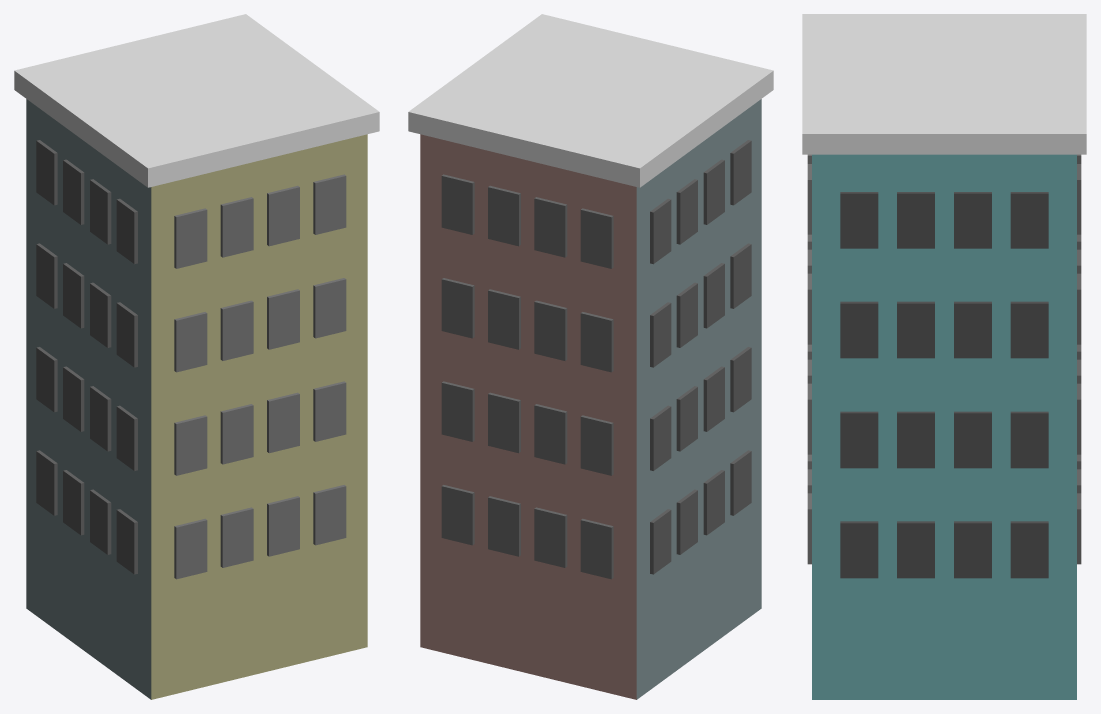
Rendered from Building 2.fbx.
The picture shows the model from 3 angles, left to right: view 1: azimuth 30°, elevation 25°; view 2: azimuth 150°, elevation 25°; view 3: azimuth 270°, elevation 25°; orthographic projection. The views are drawn at different scales.
Parts seen in each view (by area): view 1: Plane.001; view 2: Plane.001; view 3: Plane.001.
Part boxes in pixels (x1,y1,x2,y2): Plane.001: (14, 14, 379, 699); Plane.001: (408, 14, 773, 699); Plane.001: (802, 14, 1086, 699).
Size of the model in its own units: 375 by 830 by 375.
